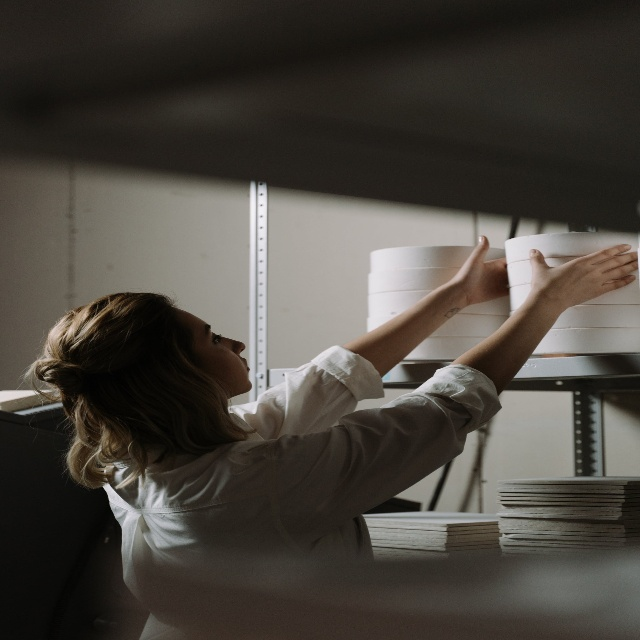Sin_guantes: (529, 243, 638, 312), (455, 235, 510, 307)
